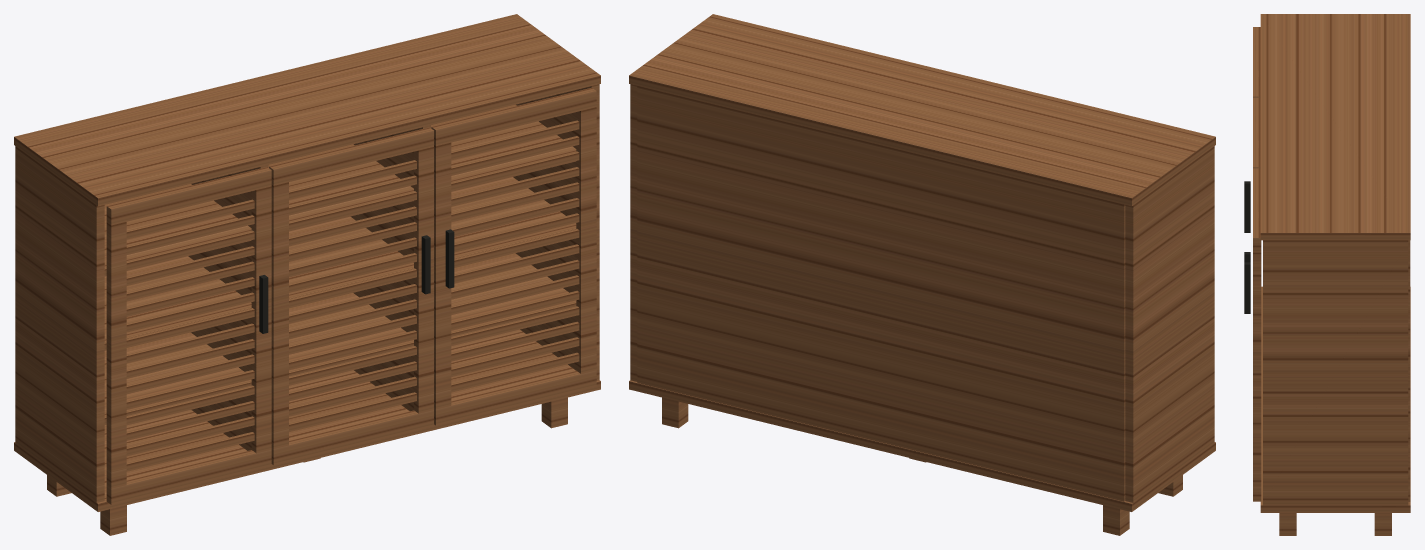
3 views of the same model, side by side, from view 1: azimuth 30°, elevation 25°; view 2: azimuth 150°, elevation 25°; view 3: azimuth 270°, elevation 25° (orthographic). The views are drawn at different scales.
Parts seen in each view (by area): view 1: Cabinet_Root; view 2: Cabinet_Root; view 3: Cabinet_Root.
Part boxes in pixels (<box>): Cabinet_Root: <box>14,14,600,535</box>; Cabinet_Root: <box>629,14,1215,535</box>; Cabinet_Root: <box>1244,14,1410,535</box>.
Bounding box in the file's own units: 1.14 × 0.76 × 0.366.
2 materials, 2 textured.
